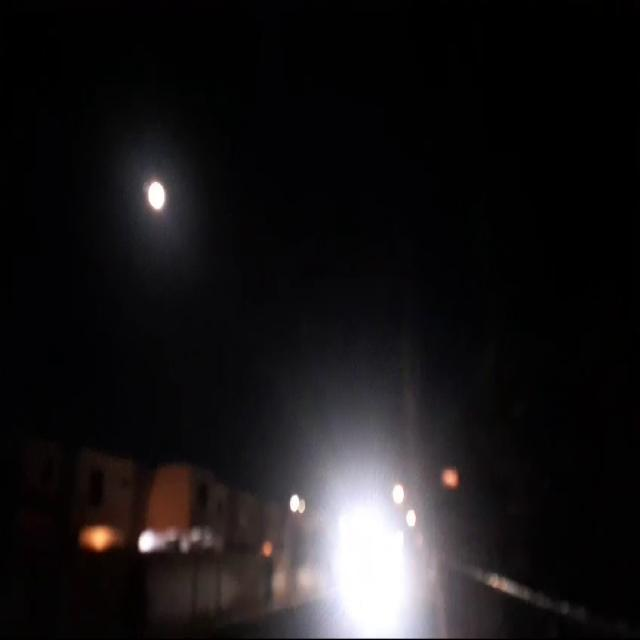moon: (150, 167, 170, 203)
